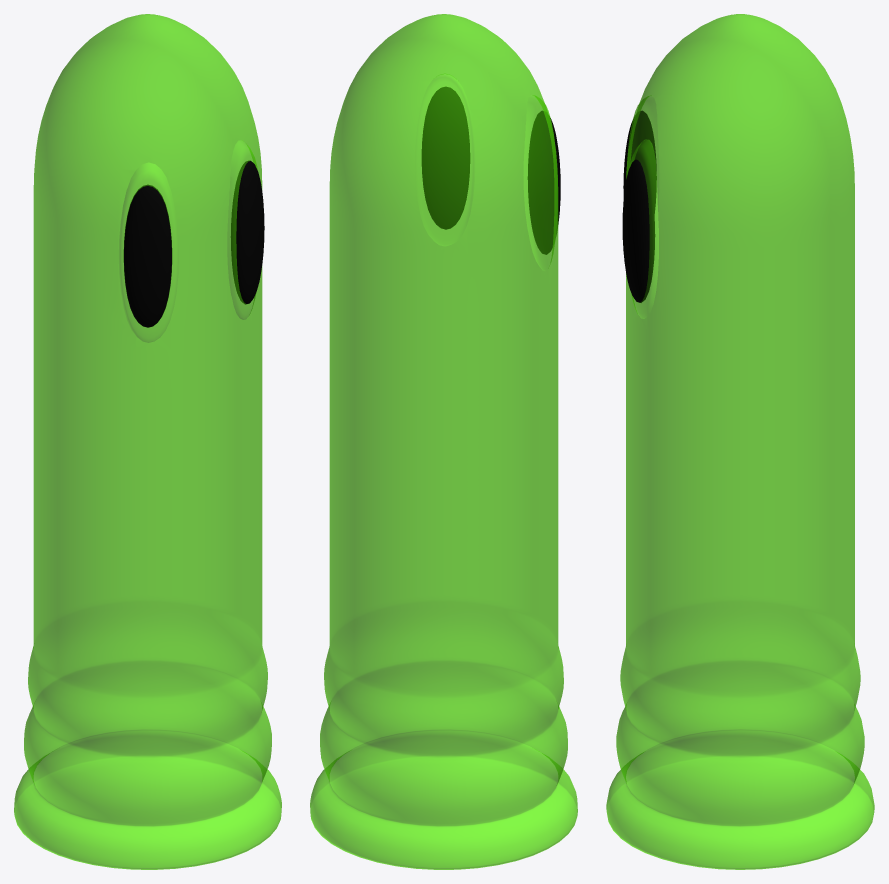
File: Ennemis_VertMarche.fbx
The picture shows the model from 3 angles, left to right: view 1: azimuth 30°, elevation 25°; view 2: azimuth 150°, elevation 25°; view 3: azimuth 270°, elevation 25°; orthographic projection.
Parts seen in each view (by area): view 1: MonstrePrincipal, Right_Eye, Right_eye; view 2: MonstrePrincipal, Right_eye, Right_Eye; view 3: MonstrePrincipal, Right_eye, Right_Eye.
Boxes of the visible parts, <box> form: MonstrePrincipal: <box>14,14,281,869</box>; Right_Eye: <box>123,184,172,327</box>; Right_eye: <box>231,160,264,304</box>; MonstrePrincipal: <box>310,14,577,869</box>; Right_eye: <box>421,86,470,229</box>; Right_Eye: <box>527,110,560,254</box>; MonstrePrincipal: <box>606,14,874,869</box>; Right_eye: <box>622,159,655,302</box>; Right_Eye: <box>623,110,656,214</box>.
Bounding box in the file's own units: 5.72 × 18.81 × 5.72.
